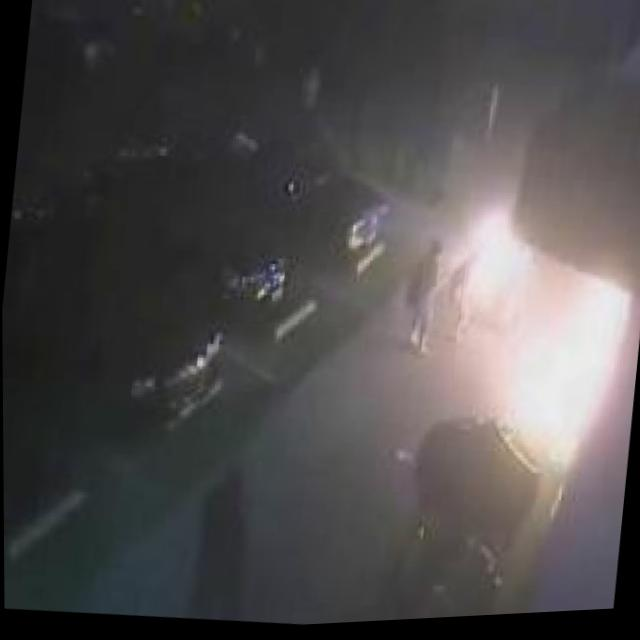fire: (435, 206, 640, 494)
